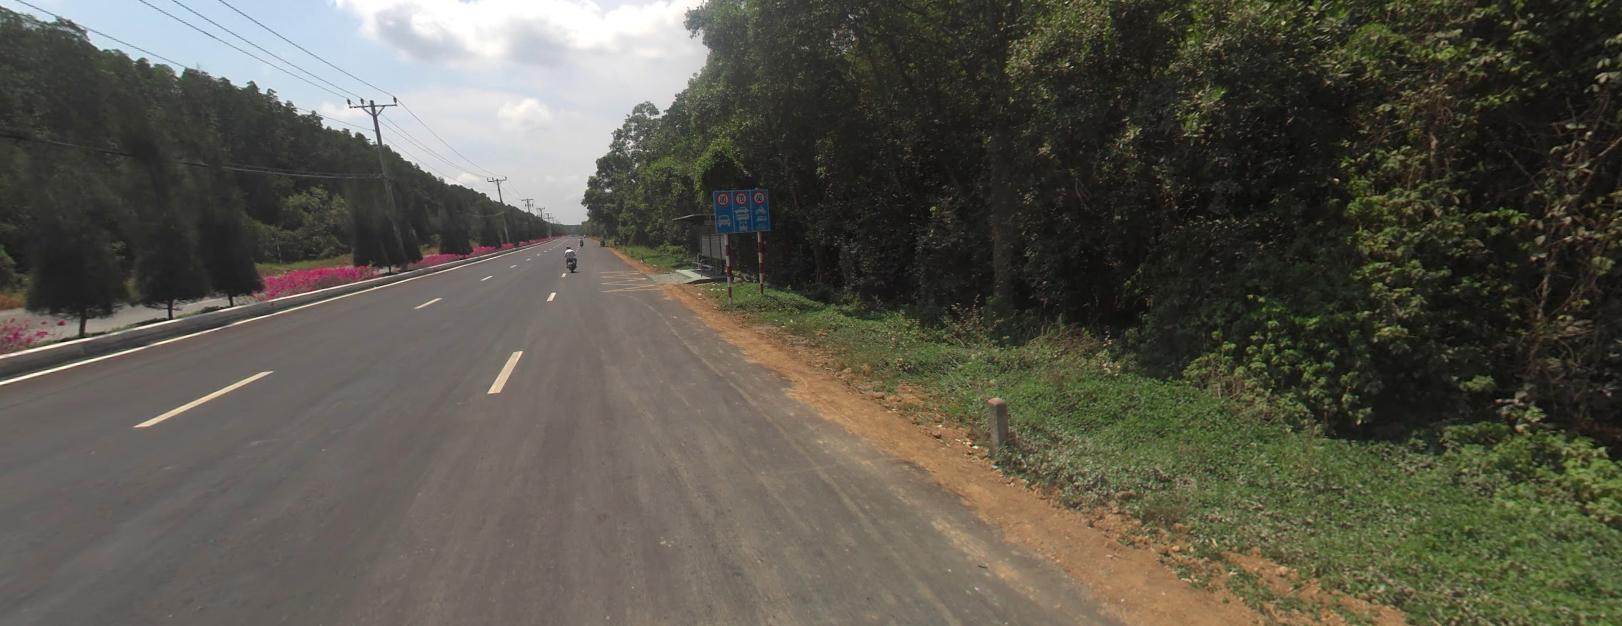Gioi han toc do: (716, 190, 729, 204), (734, 190, 747, 204), (752, 189, 765, 202)
